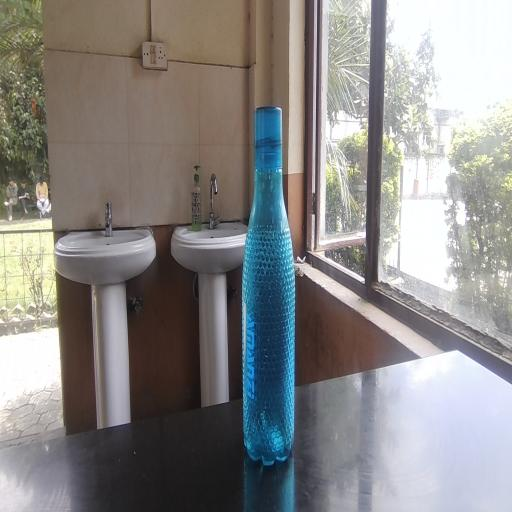Bottle: (245, 90, 305, 459)
